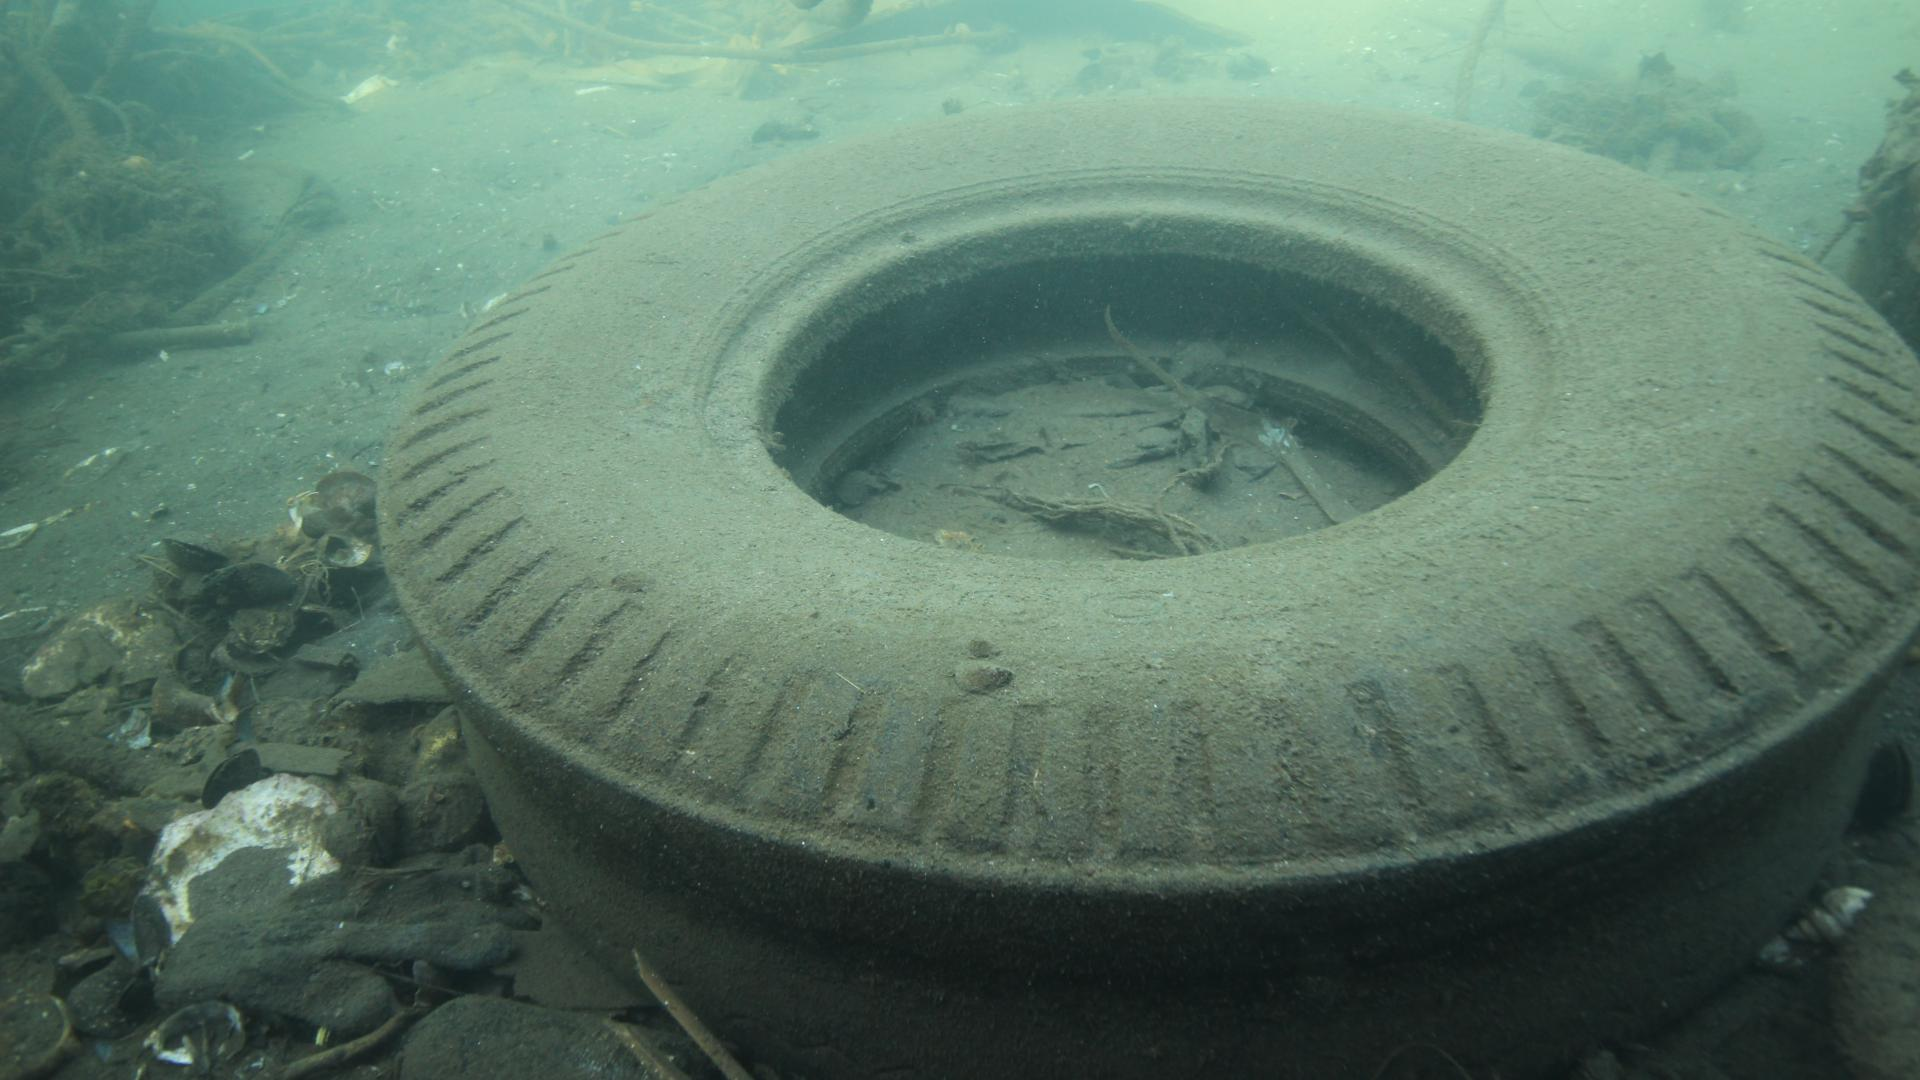tire: (375, 88, 1920, 1080)
